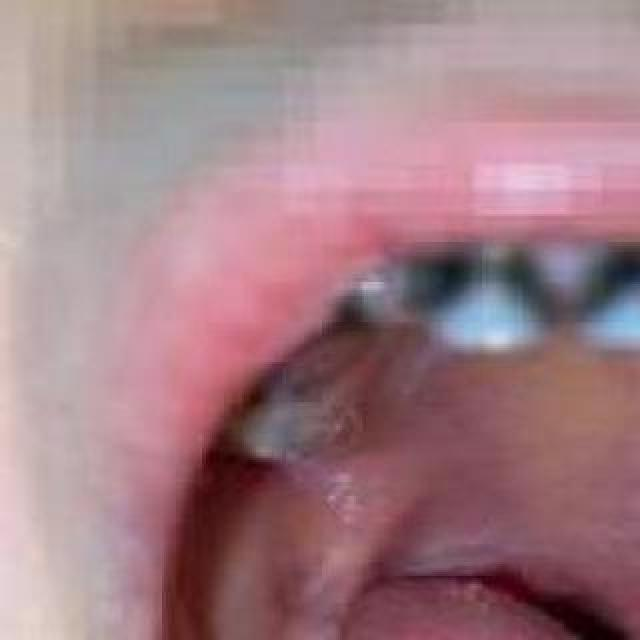cavities: (408, 246, 550, 370), (225, 381, 341, 473), (578, 248, 640, 366)
missing: (256, 290, 388, 380)
